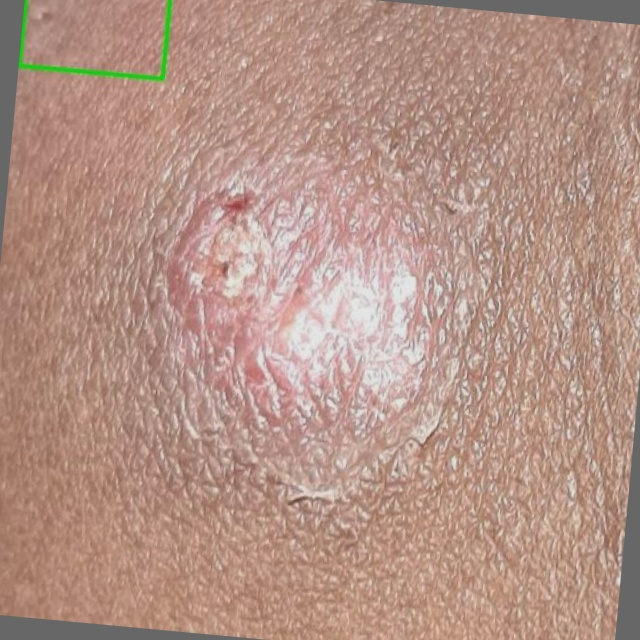Contact Dermatitis: (19, 0, 171, 79)
